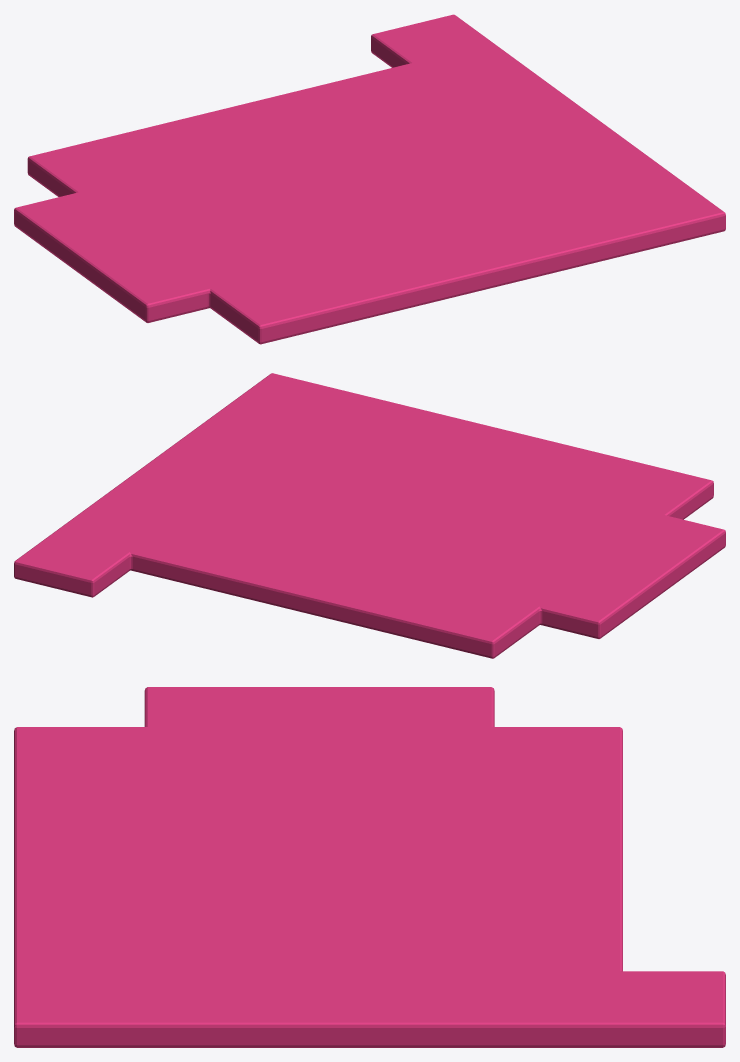
File: roof.fbx
3 renders of one model, top to bottom at view 1: azimuth 30°, elevation 25°; view 2: azimuth 150°, elevation 25°; view 3: azimuth 270°, elevation 25°, orthographic. The views are drawn at different scales.
Visible parts, largest first — view 1: roof; view 2: roof; view 3: roof.
Boxes of the visible parts, bbox=[...] form: roof: bbox=[14, 14, 725, 344]; roof: bbox=[14, 373, 725, 658]; roof: bbox=[14, 687, 725, 1047].
Bounding box in the file's own units: 1407 × 49.13 × 1252.
